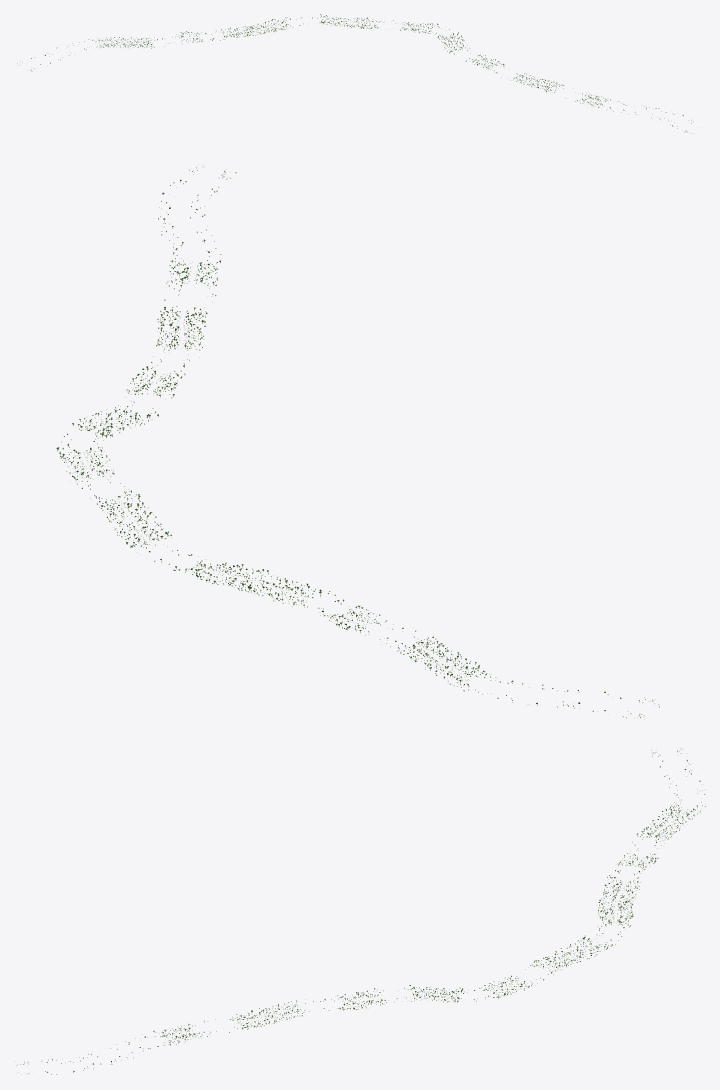
The model's file is trees.glb.
3 renders of one model, top to bottom at view 1: azimuth 30°, elevation 25°; view 2: azimuth 150°, elevation 25°; view 3: azimuth 270°, elevation 25°, orthographic. The views are drawn at different scales.
Bounding box in the file's own units: 6843 × 106 × 6279.
